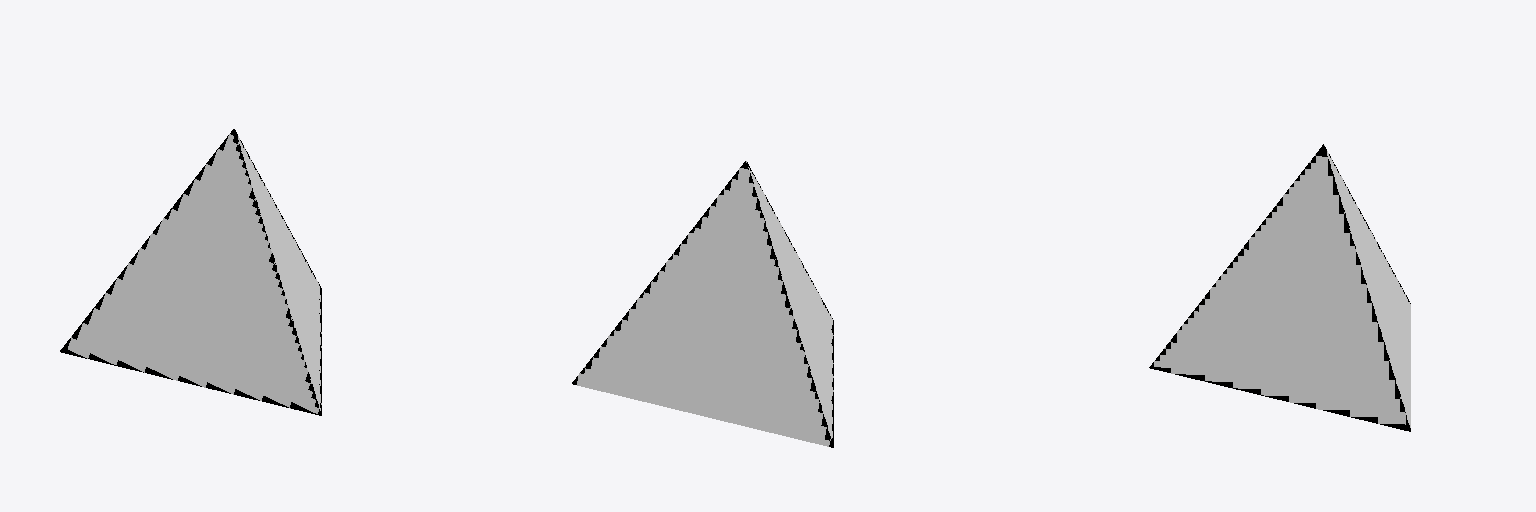
3 renders of one model, left to right at view 1: azimuth 30°, elevation 25°; view 2: azimuth 150°, elevation 25°; view 3: azimuth 270°, elevation 25°, orthographic.
Parts seen in each view (by area): view 1: tetrahedron1; view 2: tetrahedron1; view 3: tetrahedron1.
Boxes of the visible parts, box(x1,y1,x2,y2) form: tetrahedron1: box(60, 129, 321, 415); tetrahedron1: box(572, 161, 833, 447); tetrahedron1: box(1149, 144, 1410, 431).
Size of the model in its own units: 2 by 1.63 by 1.73.
Materials: 1 (1 with a texture image).